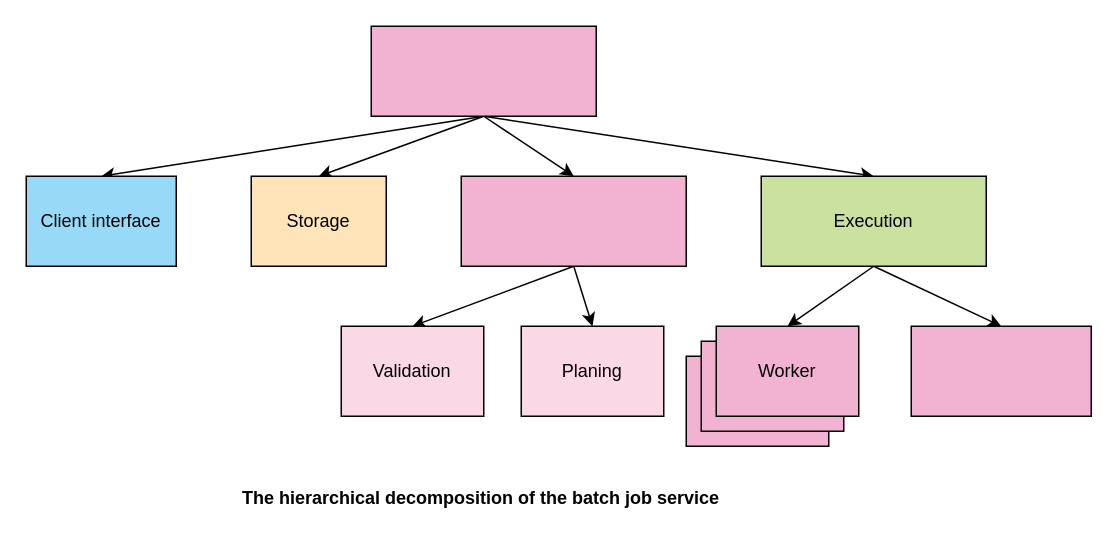
Image size: 1118x548. Some labels were removed from this diagram. Each missing label, with the centre of its shape:
Batch Job Service: the point at 483,70
Job Scheduling: the point at 573,220
Resource Pool Interface: the point at 1000,370
